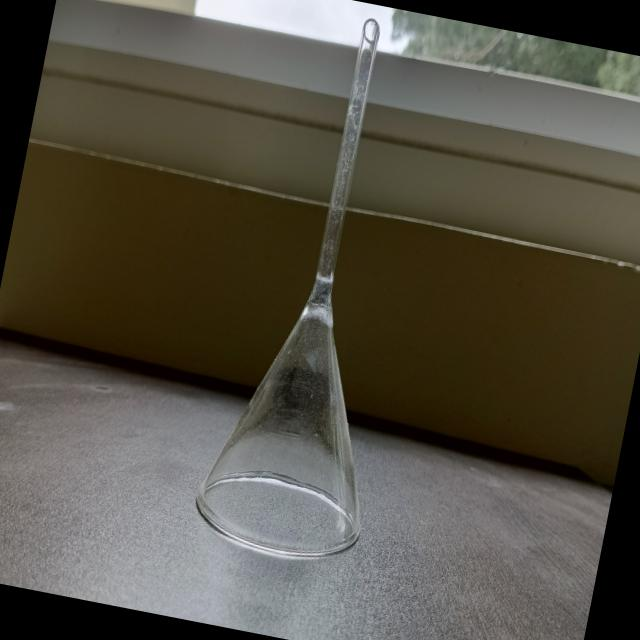funnel: (179, 0, 470, 585)
